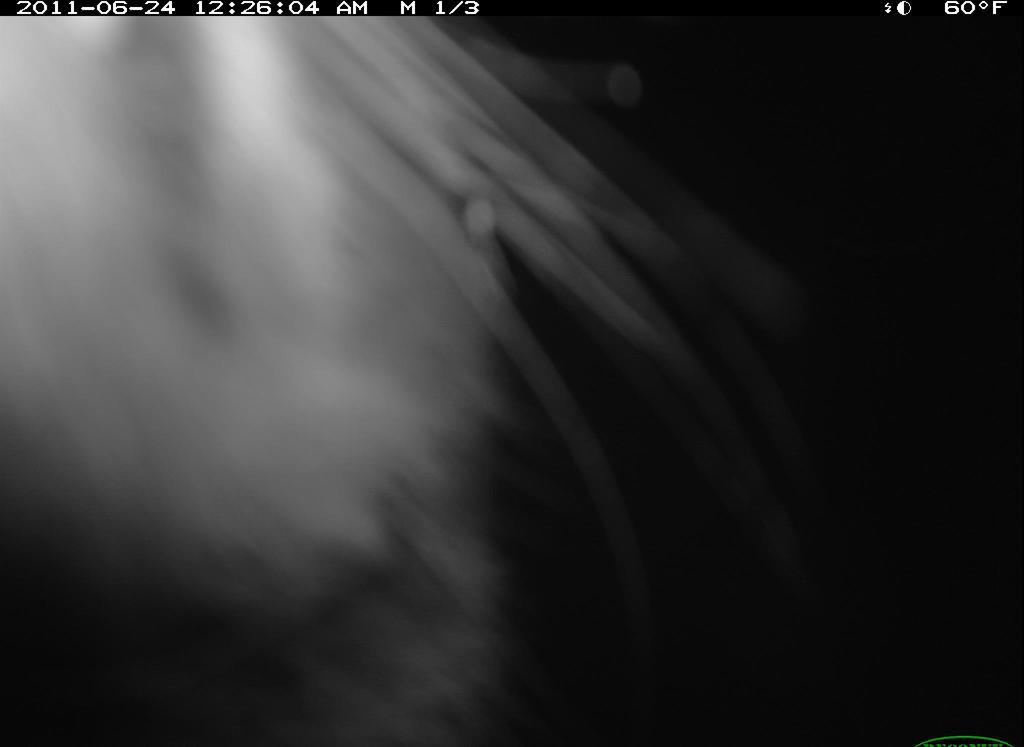raccoon: (2, 7, 821, 747)
